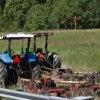Tractor: (3, 23, 67, 92)
